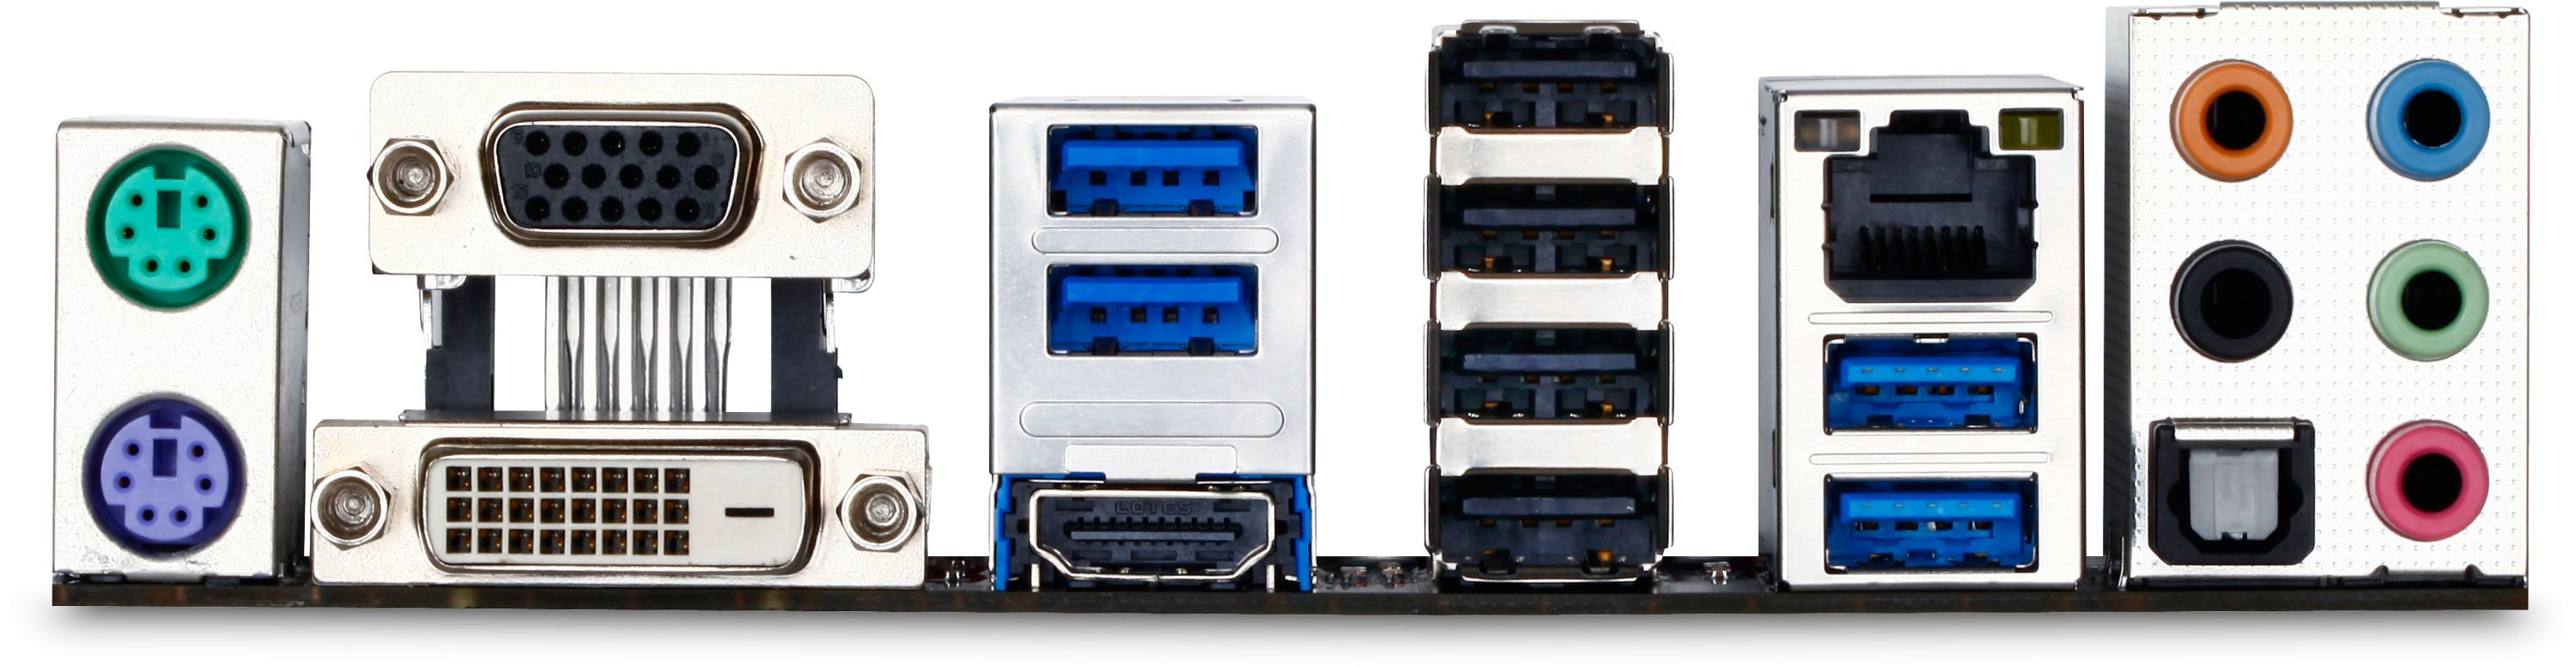Audio: (2164, 54, 2303, 185), (2357, 228, 2491, 359), (2361, 413, 2491, 546), (2366, 59, 2500, 179), (2175, 225, 2287, 364)
DVI: (394, 438, 838, 577)
Ethernet: (1786, 95, 2080, 303)
USB: (1027, 246, 1278, 374), (1035, 110, 1276, 235), (1804, 323, 2054, 441), (1810, 466, 2054, 581)
VGA: (476, 89, 769, 239)
